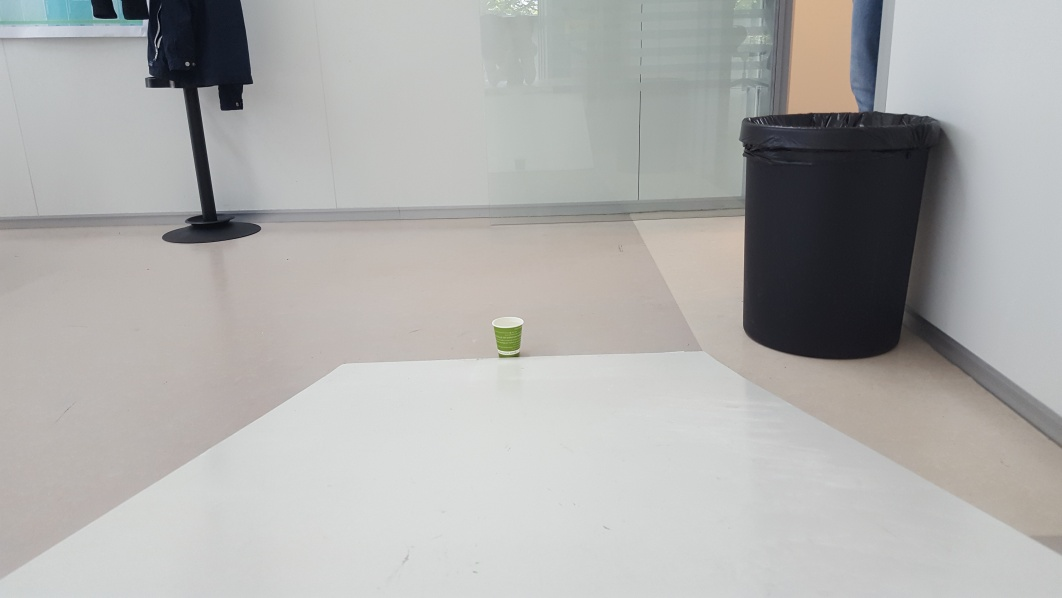cup: (491, 313, 527, 356)
